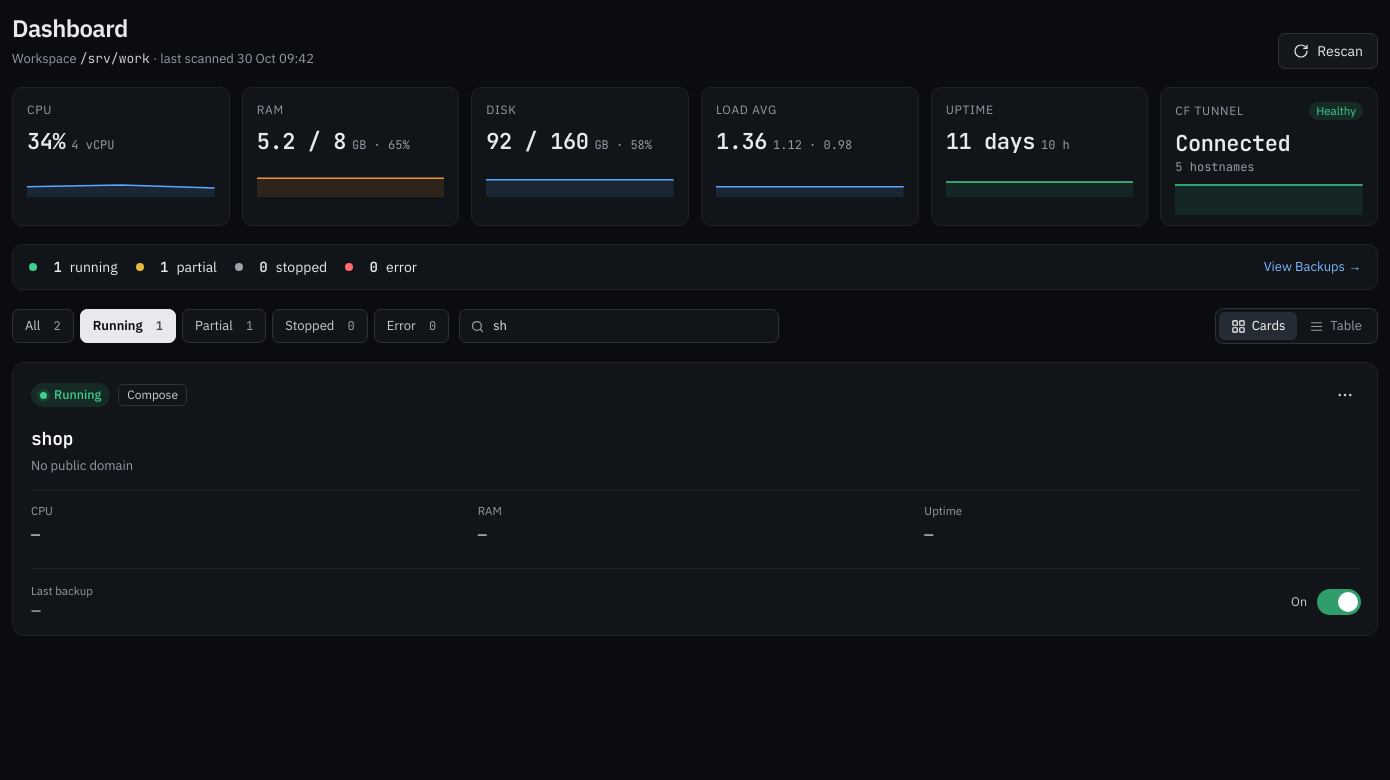
Scenario: DashboardPage › filters and views in the URL › keeps status and search when switching to Table and back, and remembers the view
This screenshot has width=1390, height=780.
Click the button "Table" at (1336, 326), box [1297, 312, 1374, 340]
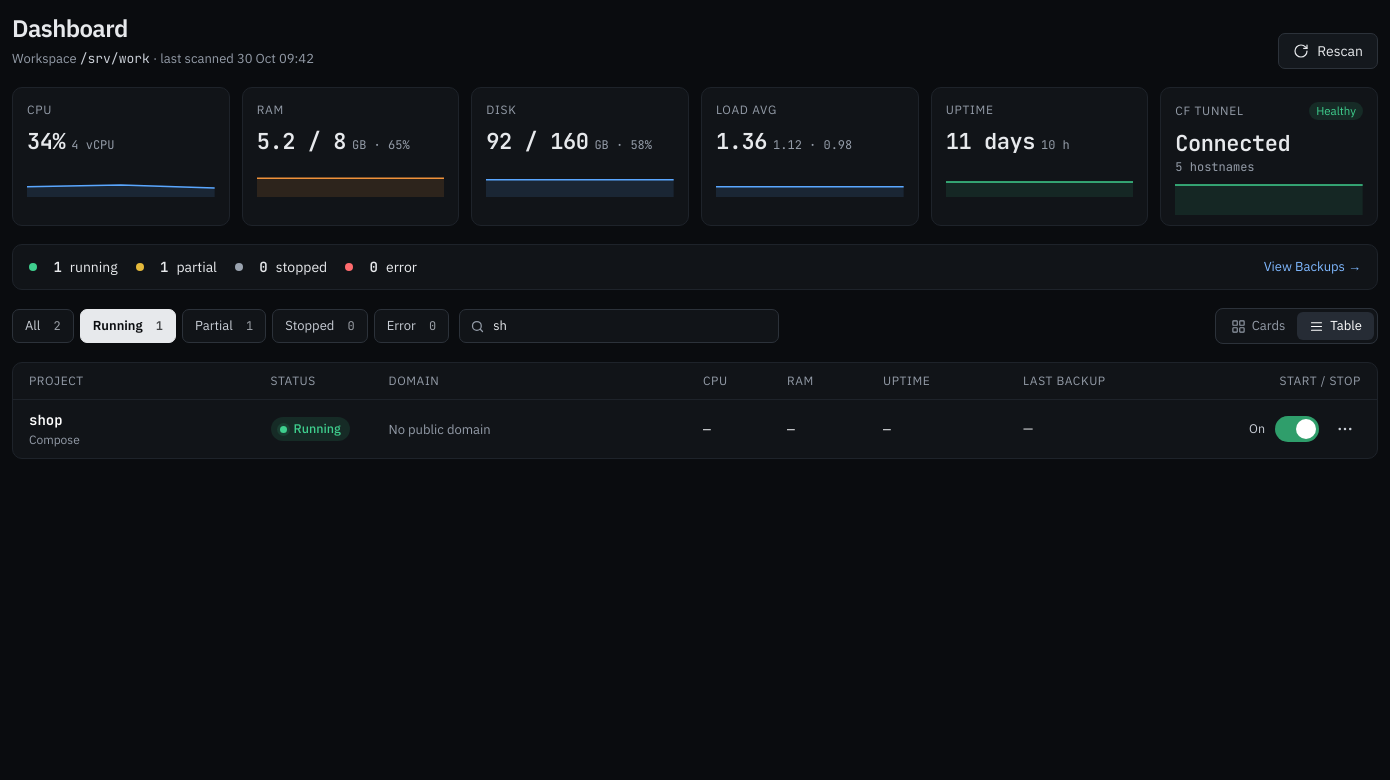
Expected: the row "shop Compose Running No public domain — — — — On" is shown, [13, 400, 1377, 458]
Click the button "Cards" at (1258, 326), box [1219, 312, 1297, 340]
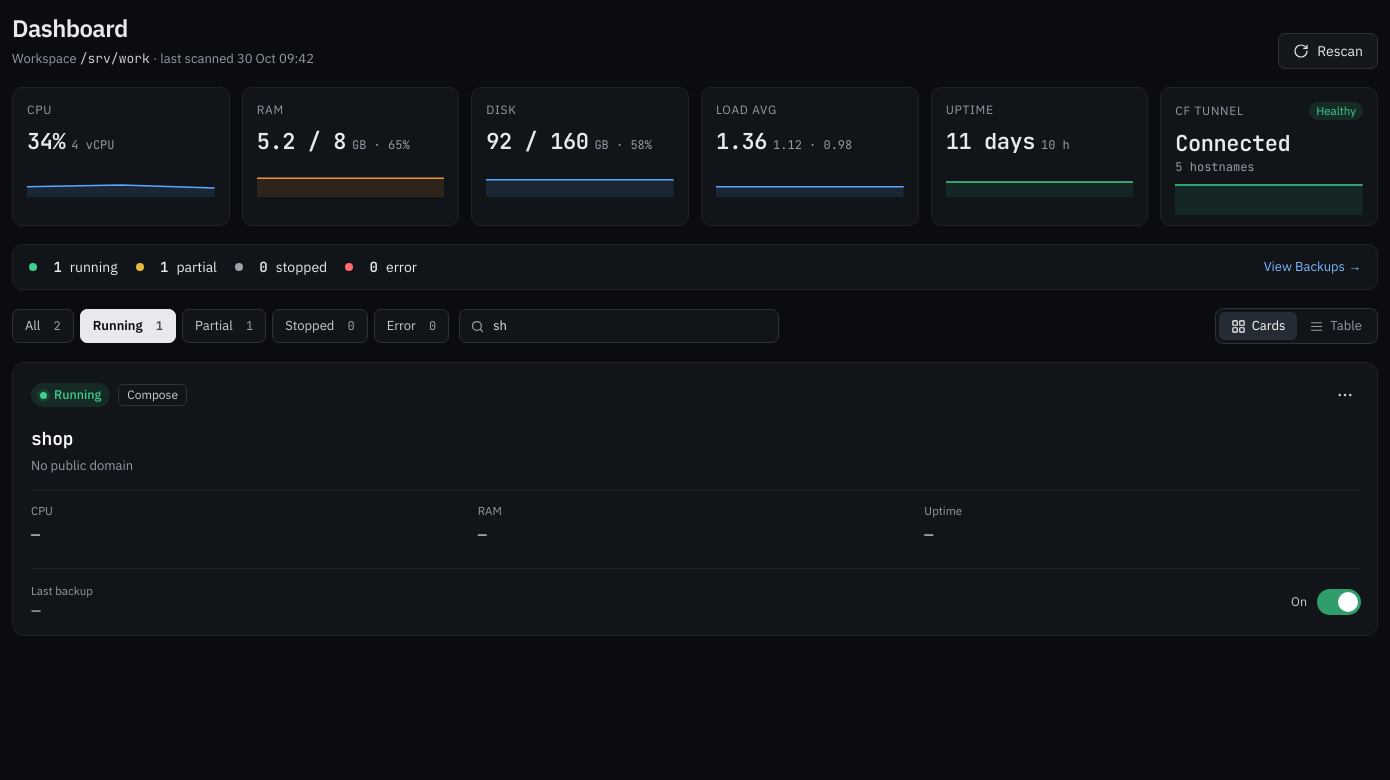
Expected: the element "shop" is shown, [12, 362, 1378, 636]
